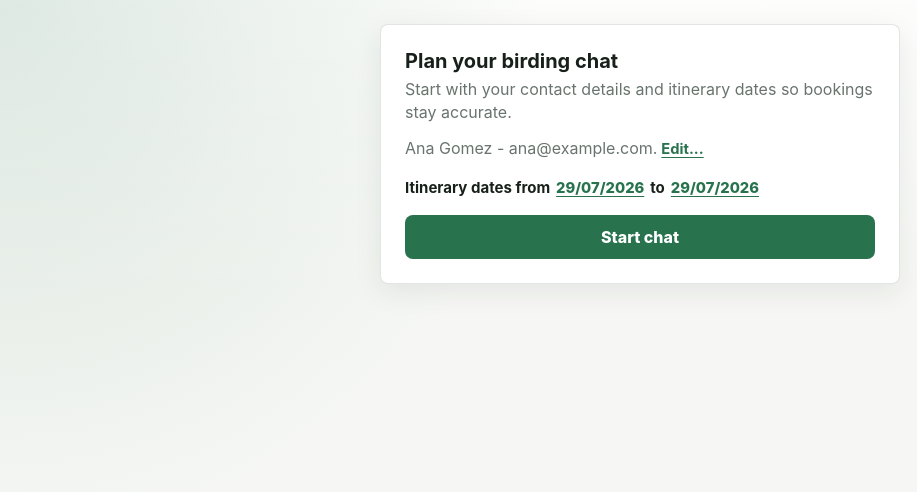
Test: CustomerContextForm › exits contact editing from the done action
The width and height of the screenshot is (917, 492).
Click the button "Edit...": [683, 150] box [661,139,704,161]
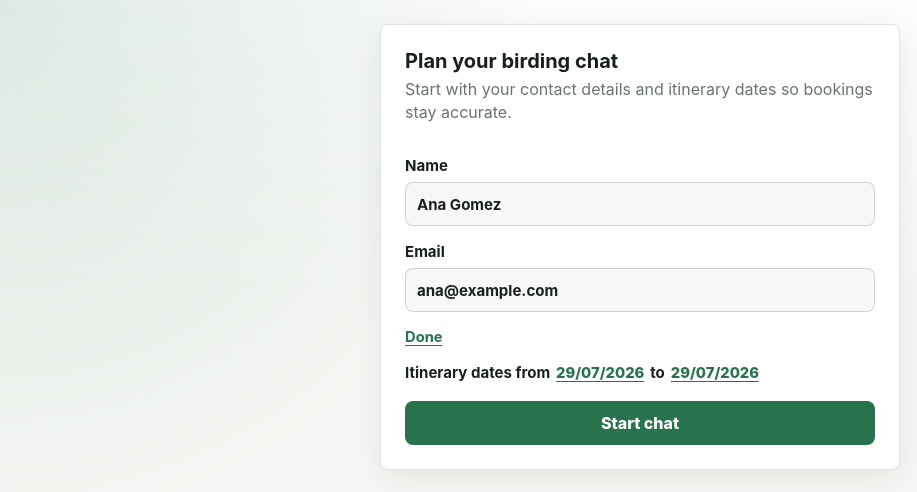
Click the button "Done": [424, 337] box [405,328,875,346]
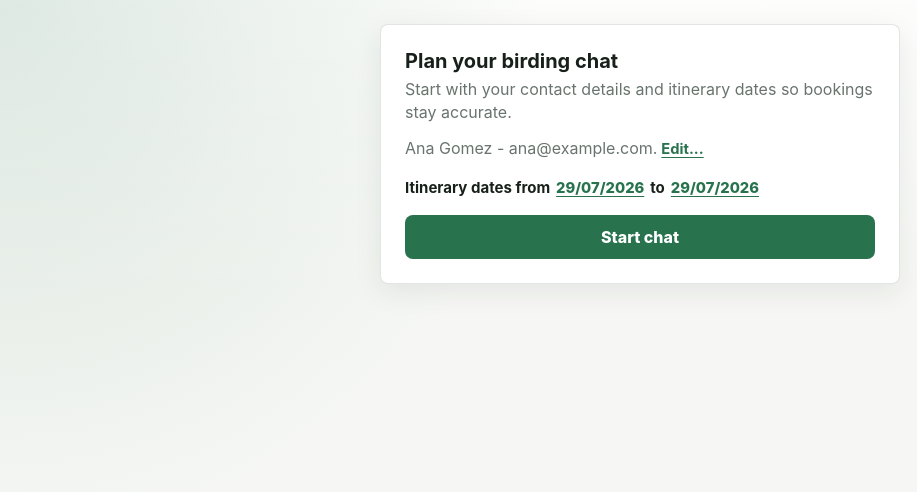
Now the label labelled "Name" is gone
Now the button "Edit..." is shown, box [661,139,704,161]
